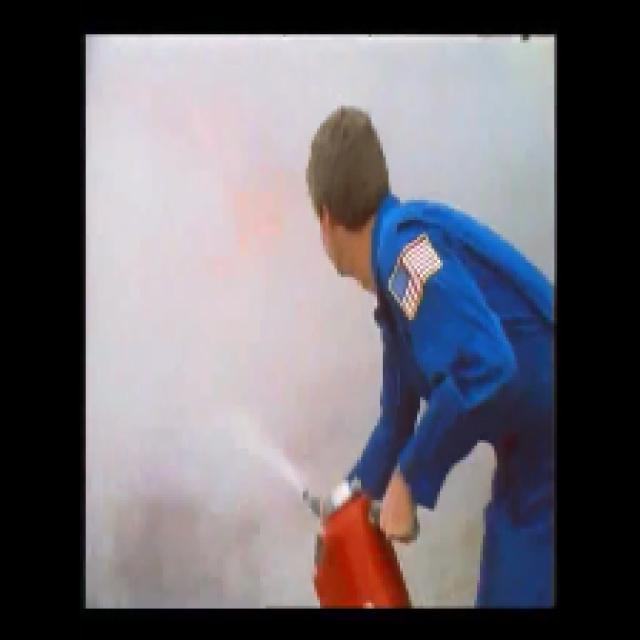Smoke: (96, 46, 232, 572), (267, 53, 544, 134), (262, 276, 356, 429), (432, 140, 558, 223)
